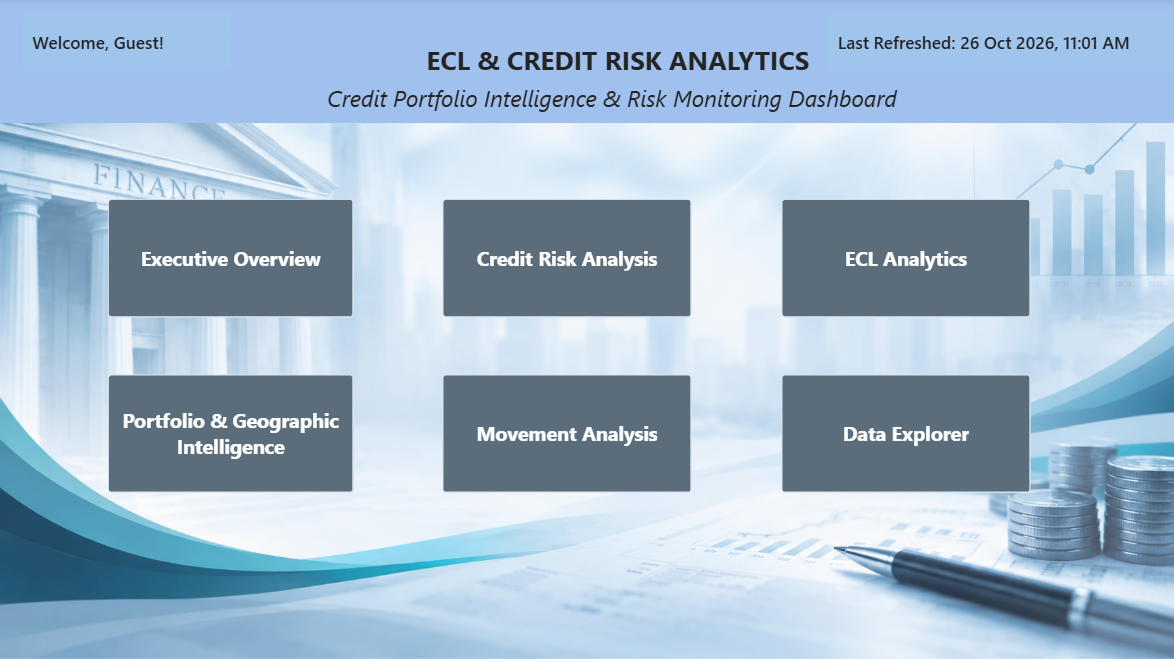

The dashboard page shown, as its layout file describes it:
{"tool":"powerbi","page":{"name":"Home","canvas":[1920,1080],"ordinal":0},"visuals":[{"type":"textbox","title":"ECL & CREDIT RISK ANALYTICS","box":[0,0,1920,203.3],"z":0},{"type":"textbox","box":[663.3,70.9,683.2,65.2],"z":1000},{"type":"textbox","box":[532.9,136.1,1009.1,56.7],"z":2000},{"type":"actionButton","box":[175.7,326,399.7,192.8],"z":3000},{"type":"actionButton","box":[720,326,405.4,192.8],"z":4000},{"type":"actionButton","box":[1269.9,326,405.4,192.8],"z":5000},{"type":"actionButton","box":[176.7,613.3,399.7,192.8],"z":6000},{"type":"actionButton","box":[720,613.3,405.4,192.8],"z":7000},{"type":"actionButton","box":[1270,613.3,405.4,192.8],"z":8000},{"type":"cardVisual","fields":{"Data":["Dummy_Data.Last Refreshed Display"]},"box":[1346.7,23.3,570,93.3],"z":8001},{"type":"cardVisual","fields":{"Data":["Dummy_Data.Welcome Message"]},"box":[36.7,23.3,340,93.3],"z":8002}]}

Visuals, with their boxes in screenshot pixels (x1, y1, x2, y2), scaled from the page's 1920x1080 canvas onto the 1174x659 screenshot:
"ECL & CREDIT RISK ANALYTICS" textbox: x1=0 y1=0 x2=1173 y2=124
textbox: x1=406 y1=43 x2=823 y2=83
textbox: x1=326 y1=83 x2=943 y2=118
actionButton: x1=107 y1=199 x2=352 y2=317
actionButton: x1=440 y1=199 x2=688 y2=317
actionButton: x1=776 y1=199 x2=1024 y2=317
actionButton: x1=108 y1=374 x2=352 y2=492
actionButton: x1=440 y1=374 x2=688 y2=492
actionButton: x1=777 y1=374 x2=1024 y2=492
cardVisual - Dummy_Data.Last Refreshed Display: x1=823 y1=14 x2=1172 y2=71
cardVisual - Dummy_Data.Welcome Message: x1=22 y1=14 x2=230 y2=71
